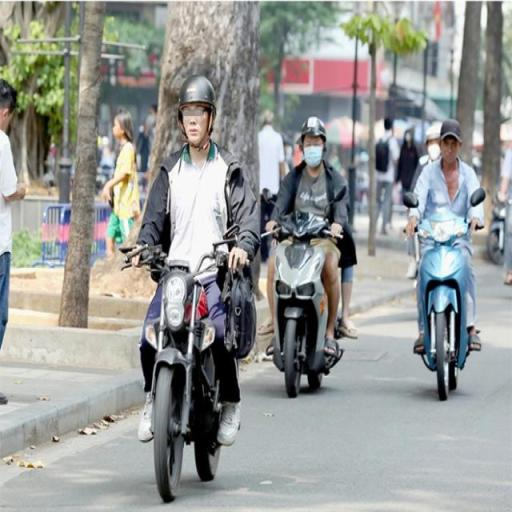with helmet: (175, 70, 219, 118), (298, 112, 328, 142), (423, 122, 445, 142)
